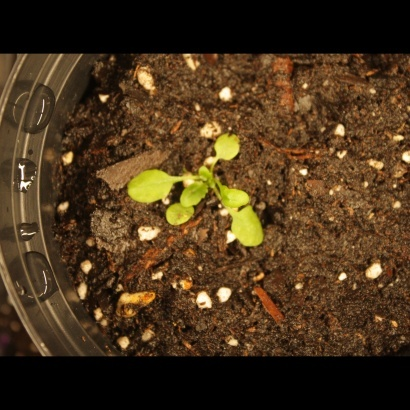leaf: (121, 167, 175, 205), (227, 207, 274, 250), (210, 131, 249, 166), (215, 181, 253, 210), (165, 198, 199, 229), (181, 177, 207, 211), (197, 162, 220, 185)
